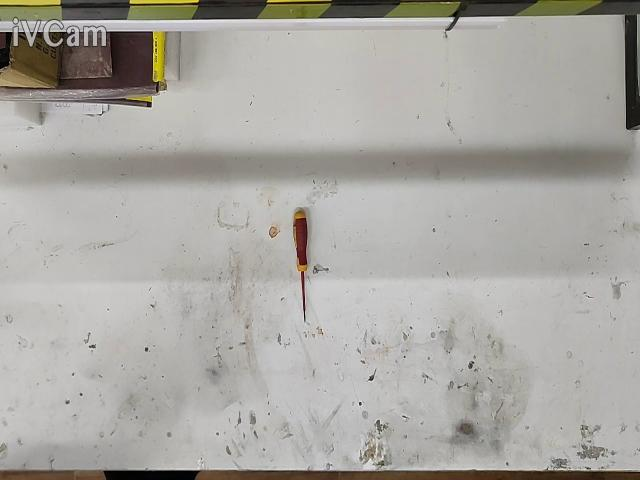Screwdriver: (292, 208, 308, 321)
